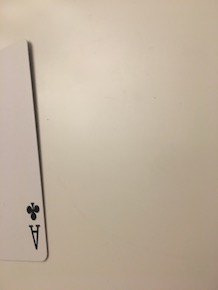AceOfClubs: (1, 36, 51, 265)
